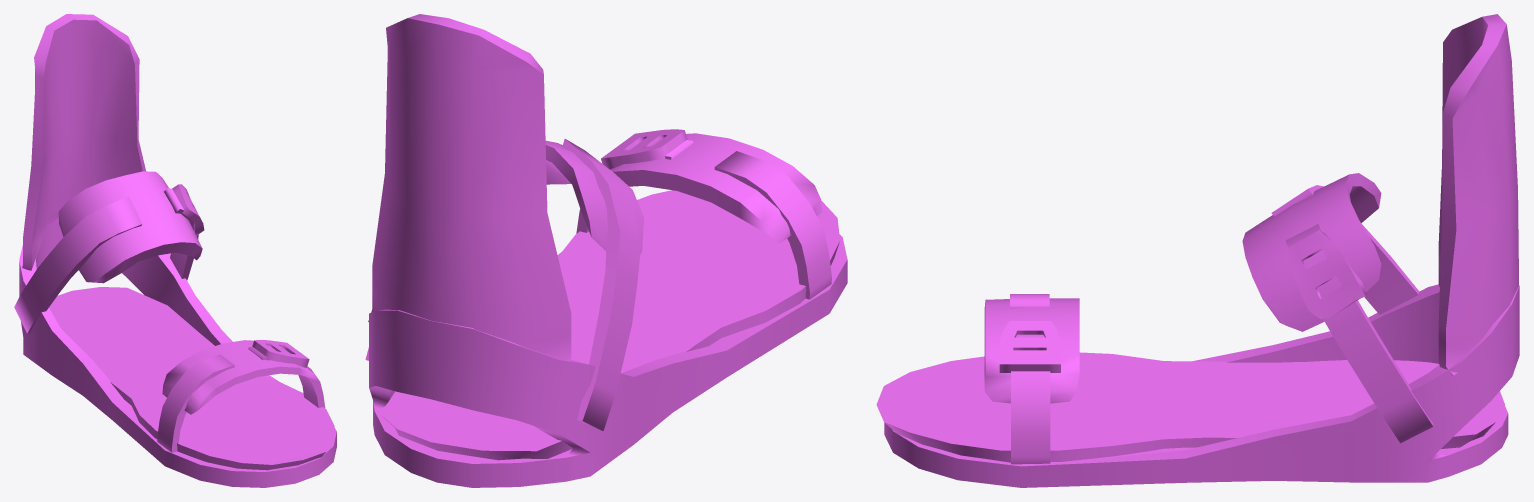
Rendered from veneerHolder.fbx.
3 views of the same model, side by side, from view 1: azimuth 30°, elevation 25°; view 2: azimuth 150°, elevation 25°; view 3: azimuth 270°, elevation 25° (orthographic). The views are drawn at different scales.
Visible parts, largest first — view 1: danguding; view 2: danguding; view 3: danguding.
Boxes of the visible parts, bbox=[...] form: danguding: bbox=[14, 14, 336, 487]; danguding: bbox=[365, 14, 847, 487]; danguding: bbox=[876, 14, 1519, 487].
Bounding box in the file's own units: 14.35 × 25.88 × 36.73.
